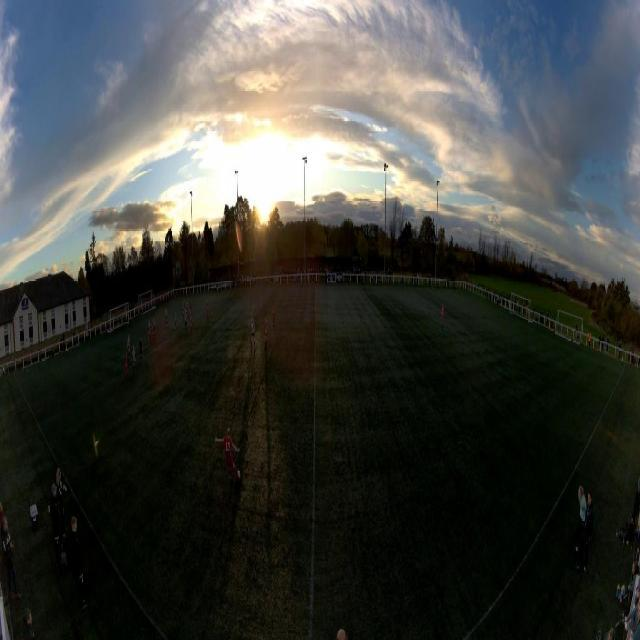ball: (237, 469, 241, 478)
player: (214, 427, 240, 481), (250, 317, 255, 353), (132, 347, 137, 375), (124, 352, 128, 381), (139, 336, 143, 363), (127, 333, 131, 359), (153, 319, 158, 339), (441, 303, 445, 328), (265, 318, 268, 350), (151, 320, 155, 339), (185, 310, 188, 335), (272, 302, 275, 327), (148, 325, 152, 343), (206, 299, 209, 320), (165, 308, 168, 327), (174, 311, 177, 329), (186, 299, 189, 315), (147, 320, 150, 335), (190, 311, 192, 333), (182, 302, 184, 321), (121, 316, 124, 327), (190, 299, 192, 315)
